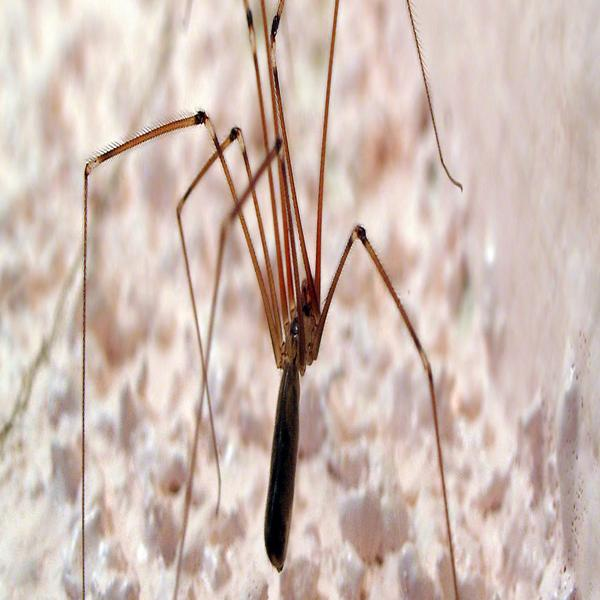Daddy Long Legs Spider: (80, 4, 467, 598)
